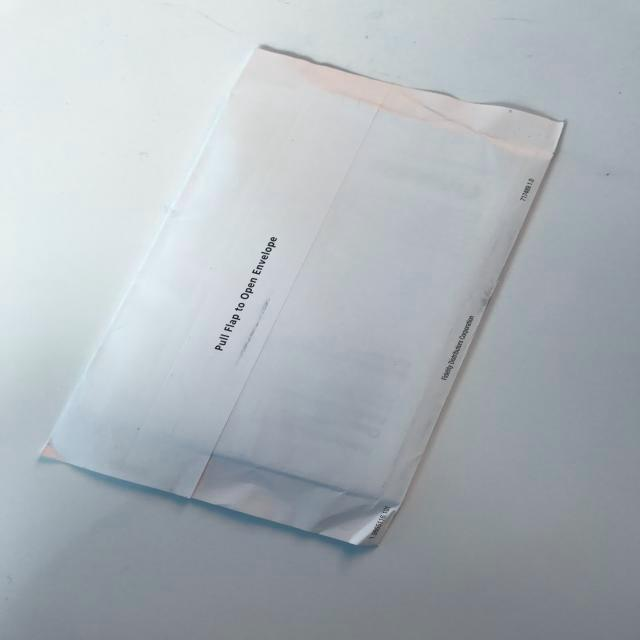paper: (32, 46, 568, 552)
